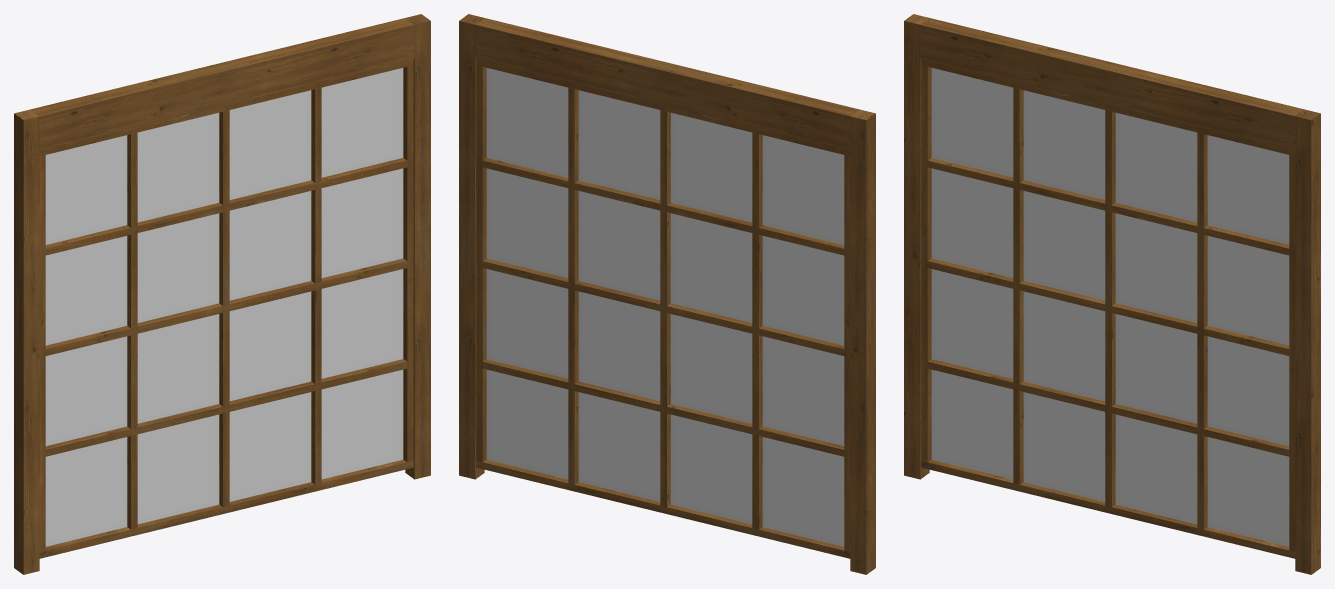
Rendered from es-policaA_h2000_naturalpine.fbx.
3 views of the same model, side by side, from view 1: azimuth 30°, elevation 25°; view 2: azimuth 150°, elevation 25°; view 3: azimuth 330°, elevation 25° (orthographic).
Visible parts, largest first — view 1: es-policaA_h2000_naturalpine; view 2: es-policaA_h2000_naturalpine; view 3: es-policaA_h2000_naturalpine.
Part boxes in pixels (x1=…): es-policaA_h2000_naturalpine: x1=14, y1=14, x2=430, y2=574; es-policaA_h2000_naturalpine: x1=459, y1=14, x2=875, y2=574; es-policaA_h2000_naturalpine: x1=904, y1=14, x2=1320, y2=574.
Size of the model in its own units: 187 by 200 by 7.5.
2 materials, 1 textured.
